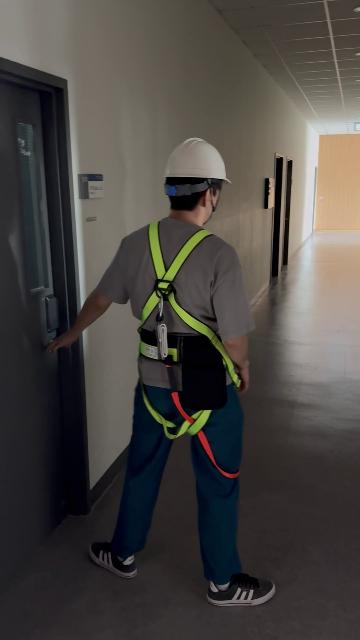helmet_worn: (163, 137, 233, 186)
shoe_not_worn: (206, 573, 275, 607), (89, 541, 136, 579)
vest_worn: (134, 228, 233, 407)
